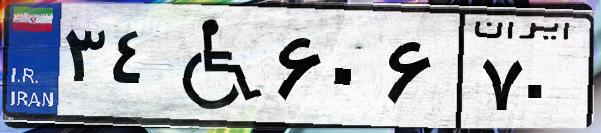0: (330, 28, 385, 110), (525, 38, 570, 115)
3: (57, 26, 110, 100)
4: (110, 28, 158, 98)
6: (270, 28, 330, 110), (385, 28, 445, 110)
7: (475, 38, 525, 113)
ژ (معلولین و جانبازان): (158, 12, 270, 120)
